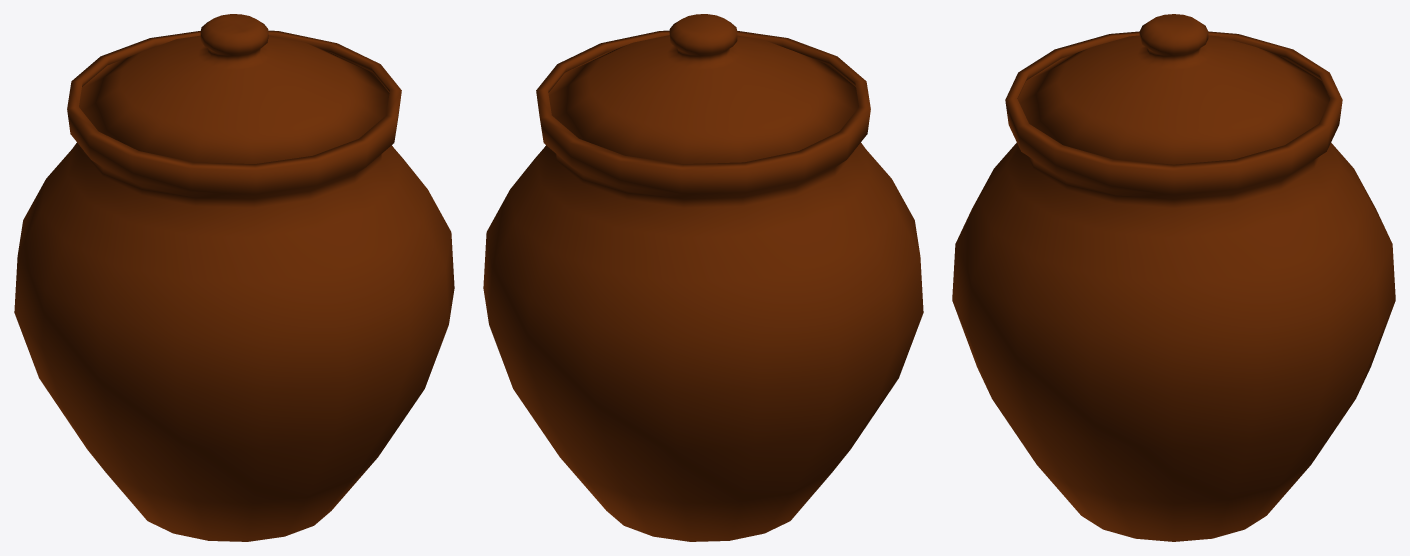
Rendered from vase.fbx.
3 renders of one model, left to right at view 1: azimuth 30°, elevation 25°; view 2: azimuth 150°, elevation 25°; view 3: azimuth 270°, elevation 25°, orthographic.
Visible parts, largest first — view 1: vase_base, vase_lid; view 2: vase_base, vase_lid; view 3: vase_base, vase_lid.
Boxes of the visible parts, x1,y1,x2,y2 form: vase_base: (14,30,454,541); vase_lid: (79,14,389,163); vase_base: (483,30,923,541); vase_lid: (548,14,858,163); vase_base: (952,31,1395,541); vase_lid: (1017,14,1330,164).
Size of the model in its own units: 2.13 by 2.52 by 2.13.
Materials: 1 (1 with a texture image).
